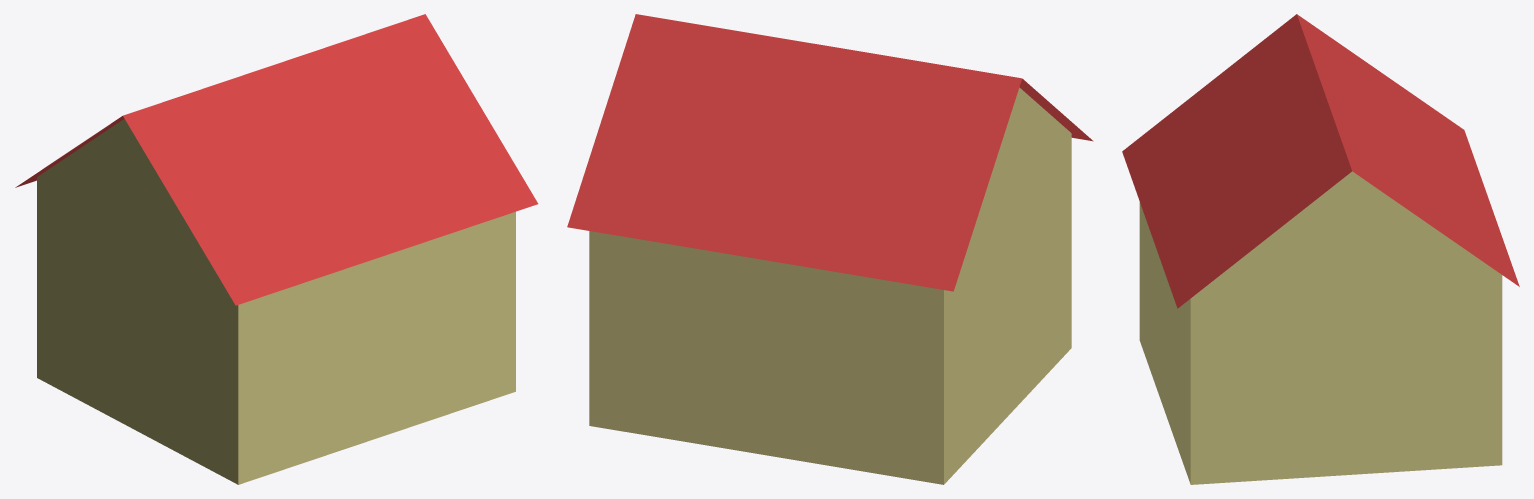
The picture shows the model from 3 angles, left to right: view 1: azimuth 30°, elevation 25°; view 2: azimuth 150°, elevation 25°; view 3: azimuth 270°, elevation 25°; orthographic projection. The views are drawn at different scales.
Bounding box in the file's own units: 13.58 × 12.77 × 10.98.
